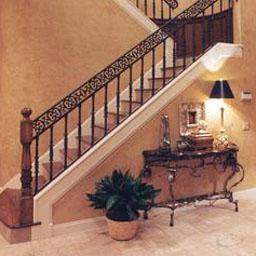Escaleras: (2, 2, 226, 231)
Matera: (89, 177, 160, 239)
